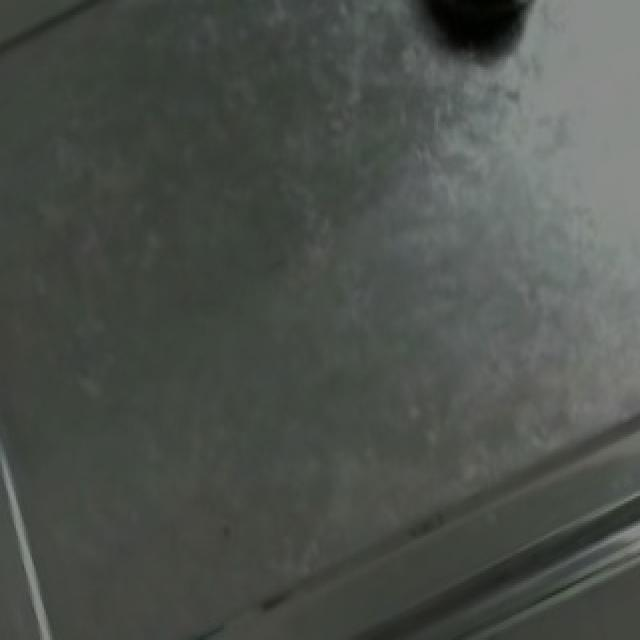Fruit: (408, 0, 558, 22)
